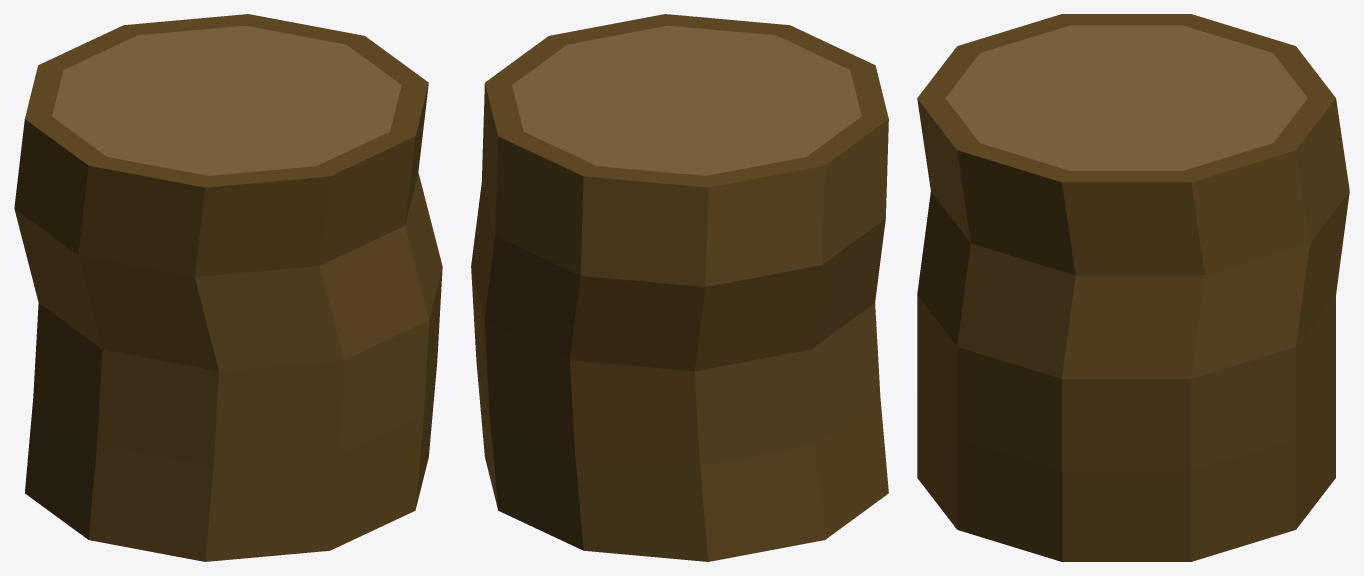
Rendered from Holzblock_Hocker_01_rdy.fbx.
The picture shows the model from 3 angles, left to right: view 1: azimuth 30°, elevation 25°; view 2: azimuth 150°, elevation 25°; view 3: azimuth 270°, elevation 25°; orthographic projection.
Visible parts, largest first — view 1: Holzblock_Hocker_01; view 2: Holzblock_Hocker_01; view 3: Holzblock_Hocker_01.
Boxes of the visible parts, <box> form: Holzblock_Hocker_01: <box>14,14,442,561</box>; Holzblock_Hocker_01: <box>471,14,888,561</box>; Holzblock_Hocker_01: <box>917,14,1349,561</box>.
Bounding box in the file's own units: 200 × 200 × 207.
